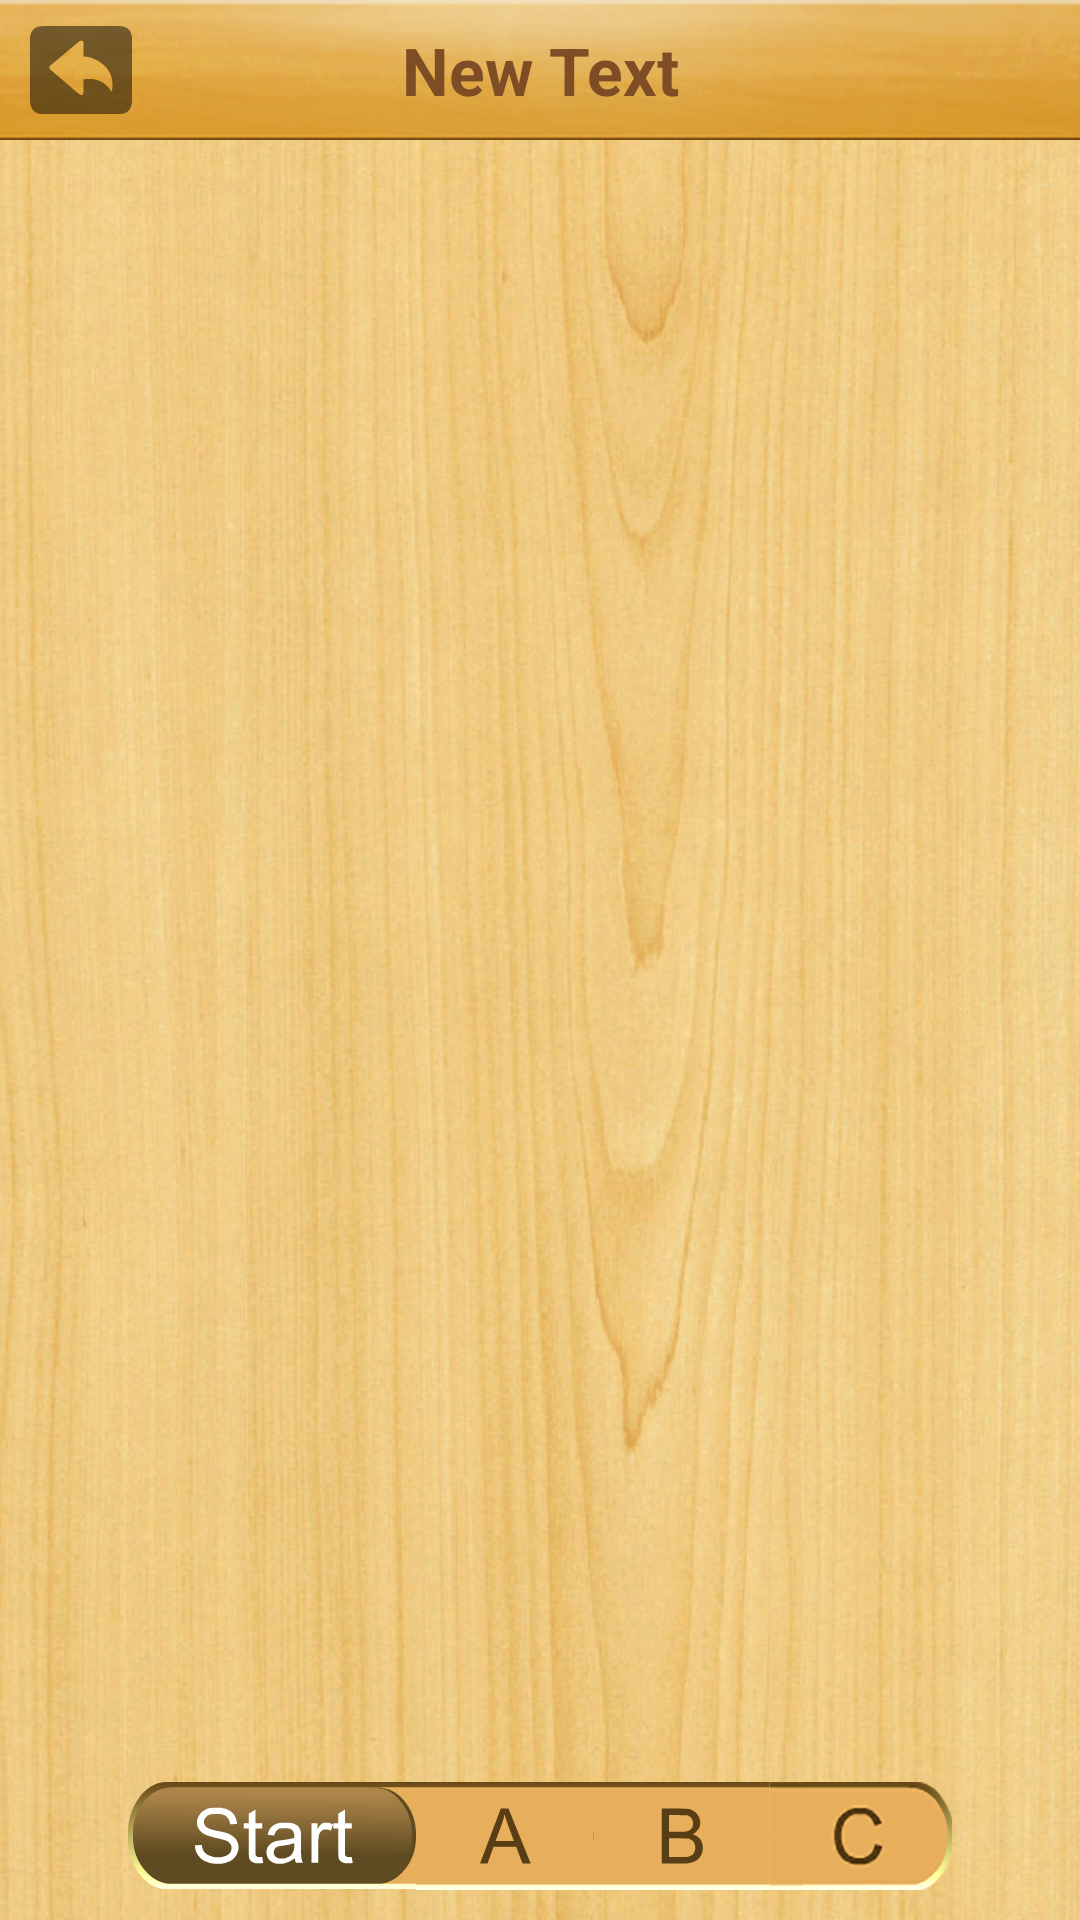

Named icons in this screenshot (1080 x 1920) and their centers, (x,y):
back: (81,70)
